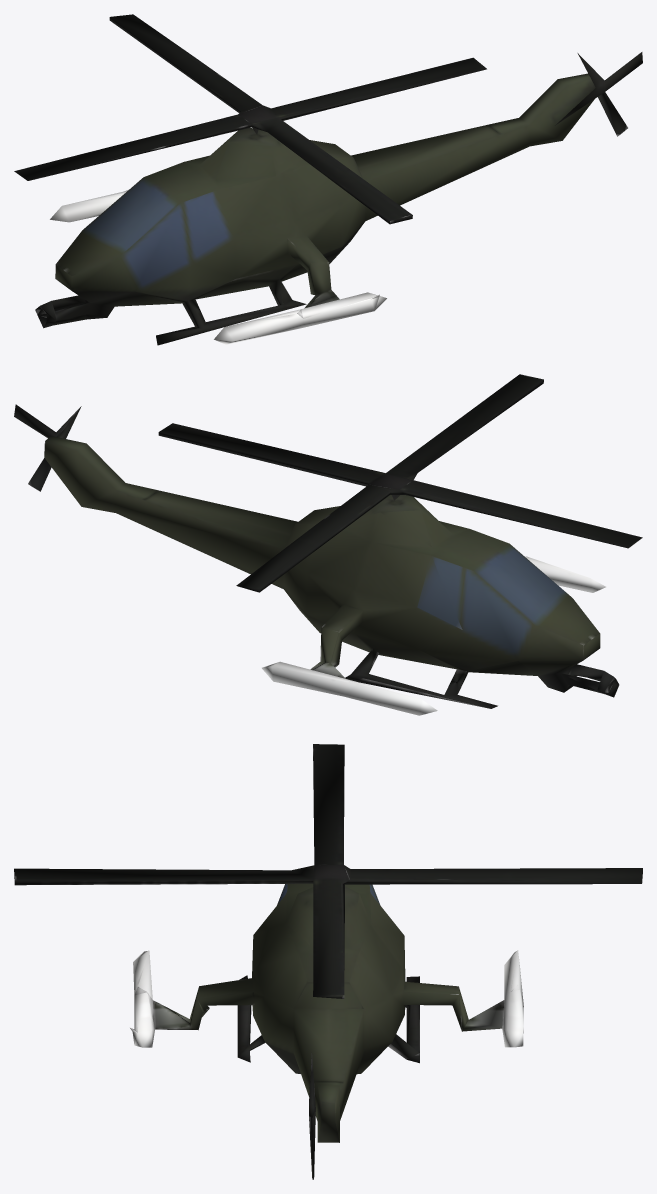
The model's file is small_chopper_bg_optimized_500.fbx.
The picture shows the model from 3 angles, top to bottom: view 1: azimuth 30°, elevation 25°; view 2: azimuth 150°, elevation 25°; view 3: azimuth 270°, elevation 25°; orthographic projection. The views are drawn at different scales.
Parts seen in each view (by area): view 1: SmallChopper_BG_Optimized_500; view 2: SmallChopper_BG_Optimized_500; view 3: SmallChopper_BG_Optimized_500.
Part boxes in pixels (x1,y1,x2,y2): SmallChopper_BG_Optimized_500: (14, 14, 642, 345); SmallChopper_BG_Optimized_500: (14, 374, 642, 715); SmallChopper_BG_Optimized_500: (14, 744, 642, 1179).
Bounding box in the file's own units: 1.9 × 0.4902 × 1.49.
